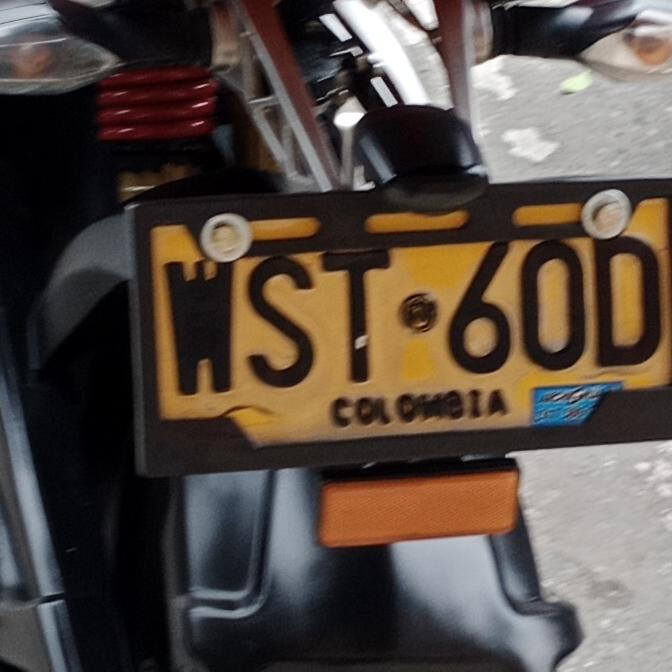plates: (131, 182, 672, 482)
